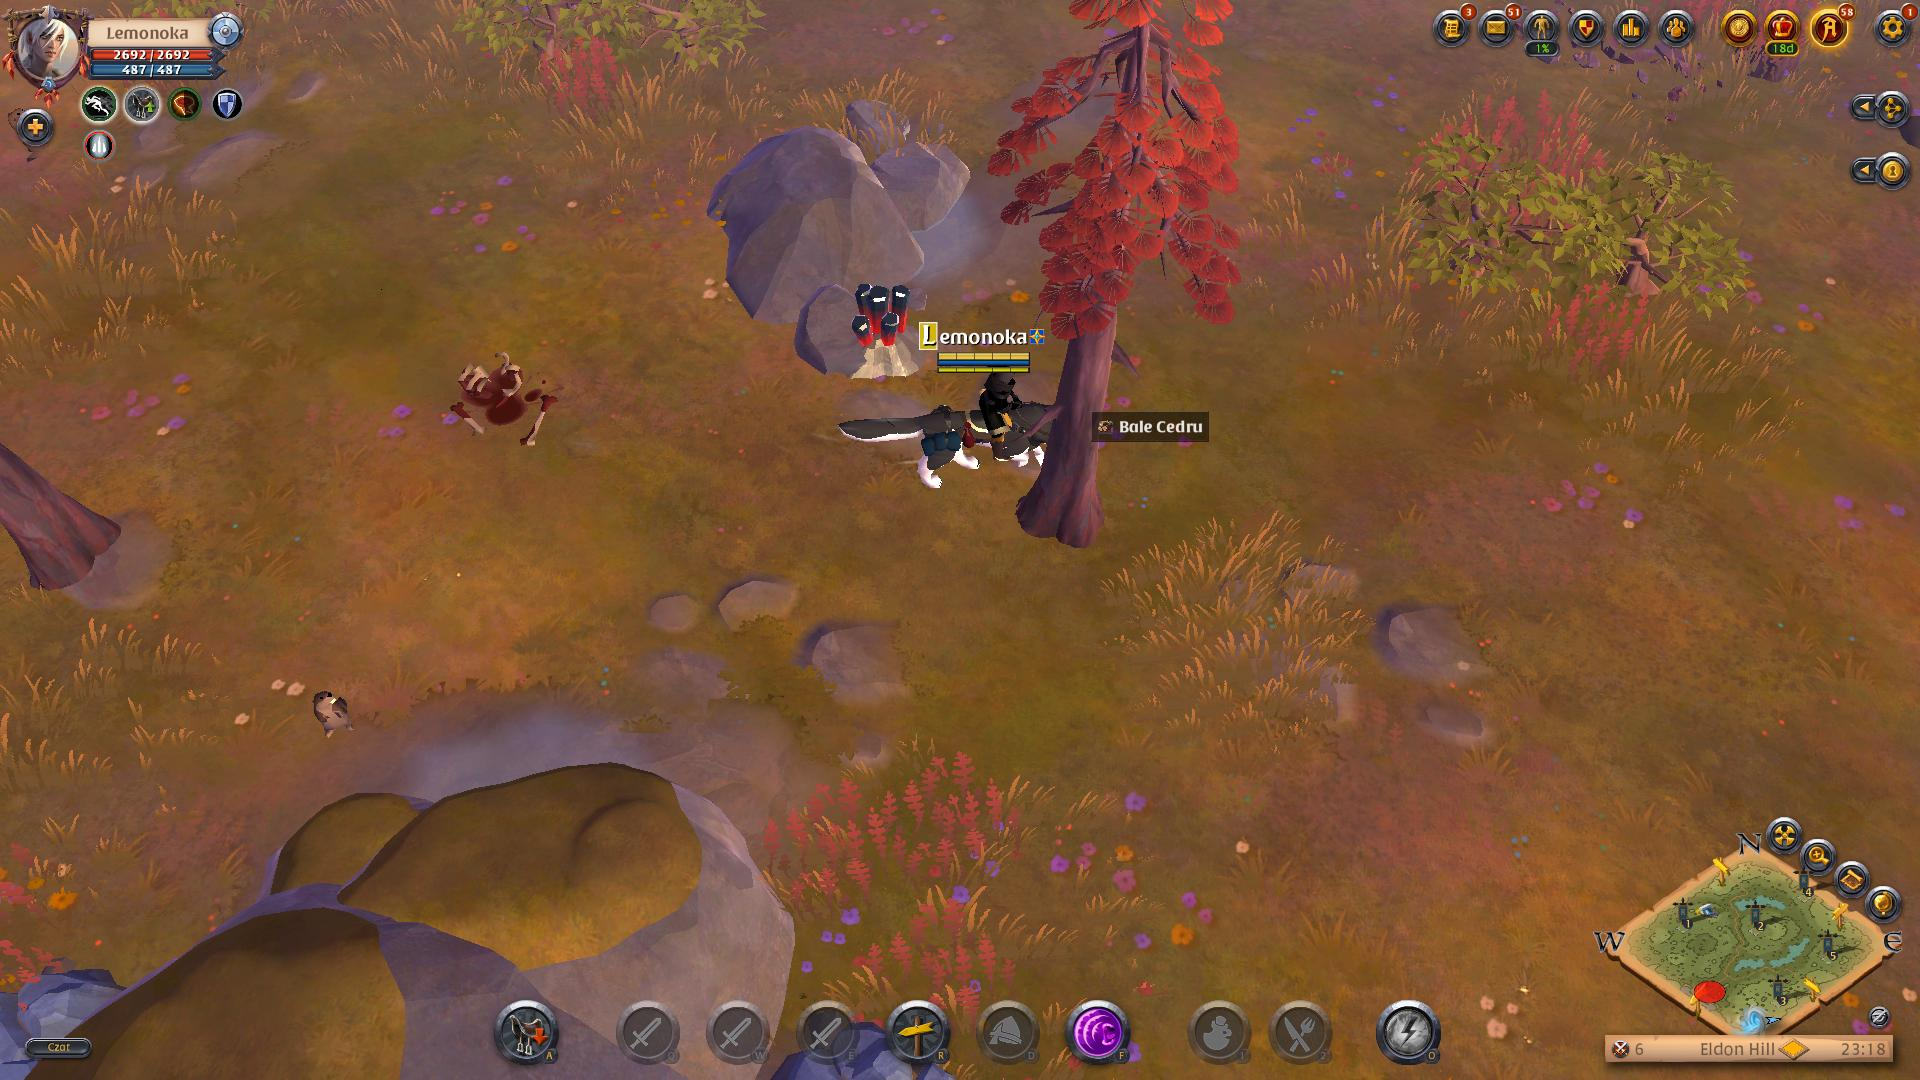ore tier 5: (825, 277, 927, 384)
wood tier 5: (1000, 0, 1251, 347)
